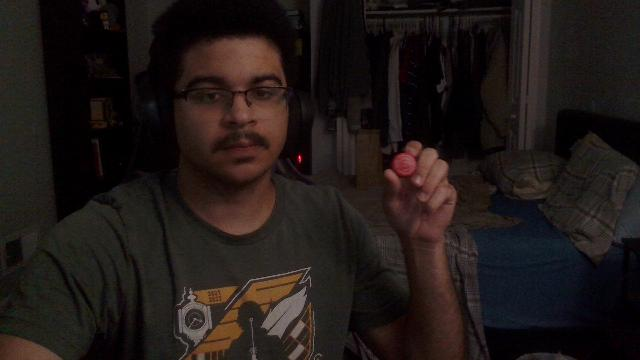cap: (392, 154, 416, 176)
